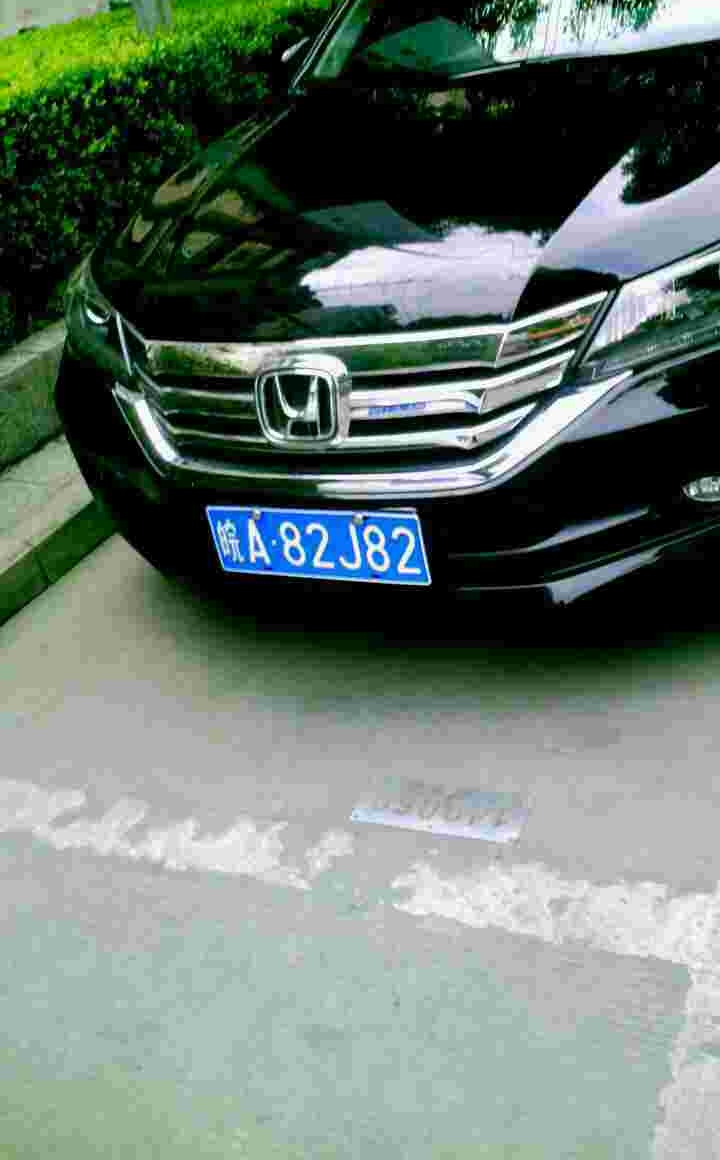license_plate: (213, 505, 418, 580)
